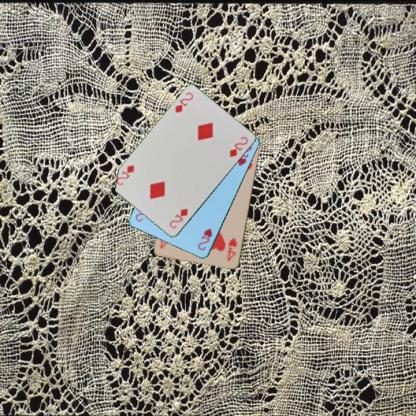2d: (172, 90, 195, 115), (167, 206, 189, 230)
2h: (195, 226, 213, 252)
4h: (225, 235, 238, 262)
